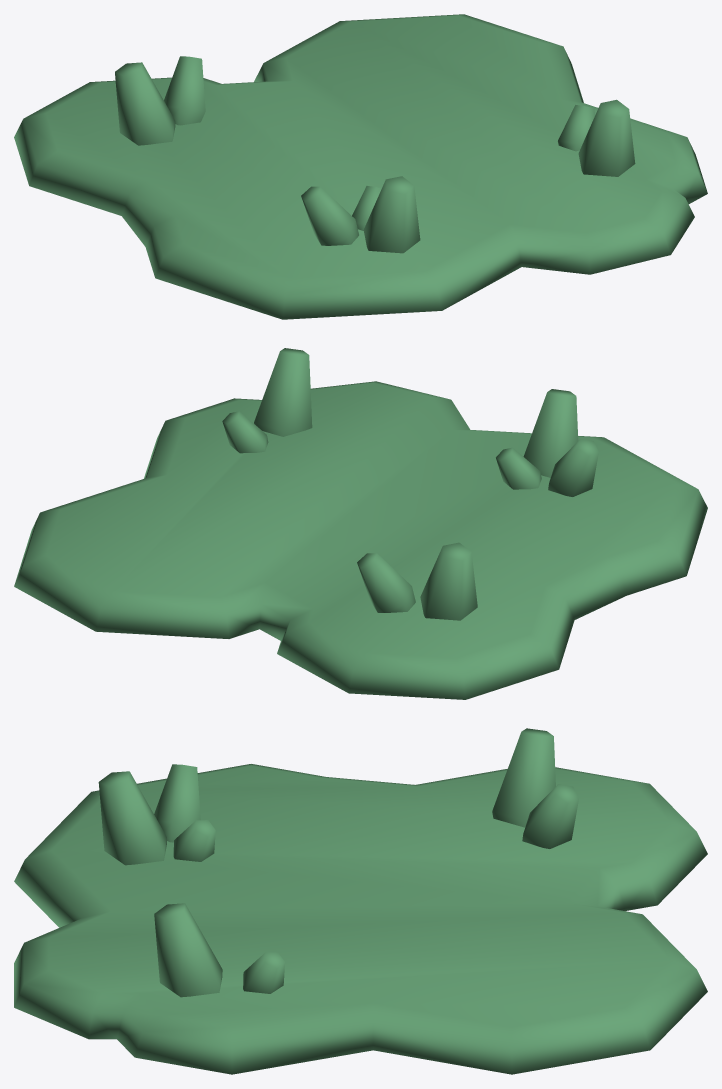
Rendered from patch-grass.glb.
3 views of the same model, one above another, from view 1: azimuth 30°, elevation 25°; view 2: azimuth 150°, elevation 25°; view 3: azimuth 270°, elevation 25° (orthographic). The views are drawn at different scales.
Parts seen in each view (by area): view 1: patch-grass; view 2: patch-grass; view 3: patch-grass.
Boxes of the visible parts, x1=… form: patch-grass: x1=14, y1=14, x2=707, y2=319; patch-grass: x1=14, y1=348, x2=707, y2=699; patch-grass: x1=14, y1=728, x2=707, y2=1074.
Size of the model in its own units: 1 by 0.171 by 1.
